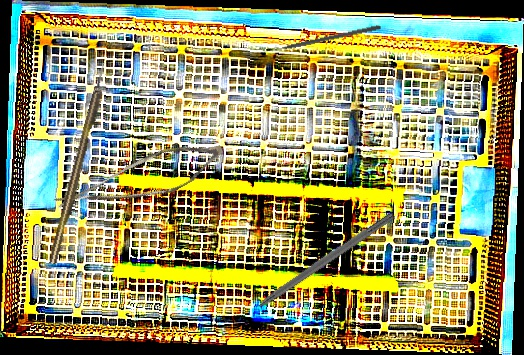Hook Surgical: (234, 209, 397, 324), (47, 62, 111, 265)
Micro Scissor: (50, 116, 229, 247)
Pusher: (262, 23, 382, 55)
